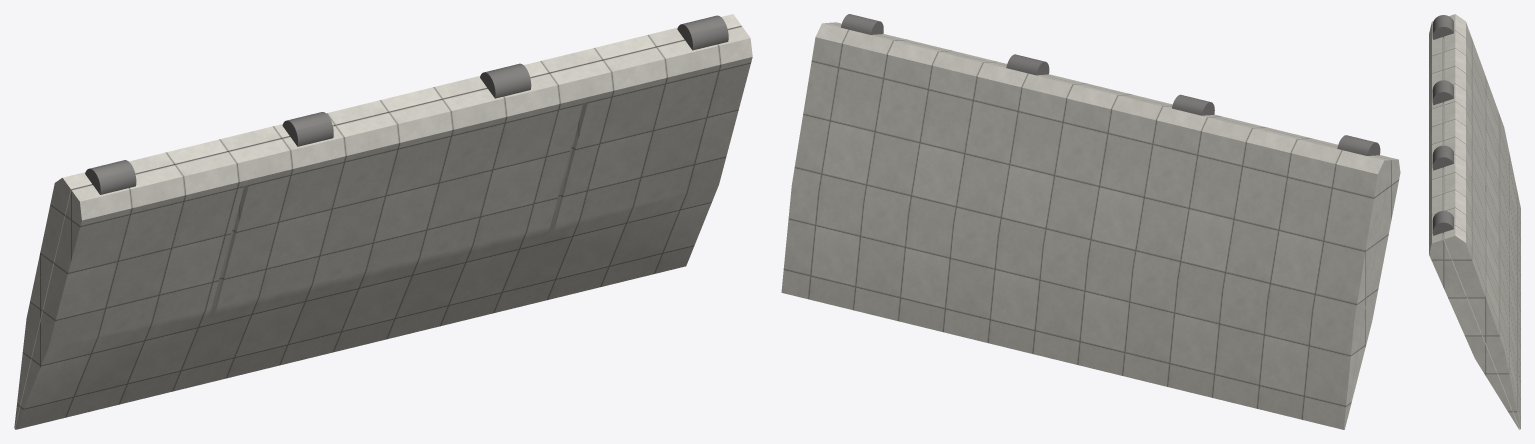
File: ax_aero_24_csr_rudder_brake_m_defl_pos.glb
The picture shows the model from 3 angles, left to right: view 1: azimuth 30°, elevation 25°; view 2: azimuth 150°, elevation 25°; view 3: azimuth 270°, elevation 25°; orthographic projection. The views are drawn at different scales.
Parts seen in each view (by area): view 1: surface_upper, surface_lower, hinge_fittings; view 2: surface_lower, surface_upper, hinge_fittings; view 3: surface_lower, surface_upper, hinge_fittings.
Boxes of the visible parts, x1,y1,x2,y2 form: surface_upper: (15, 26, 752, 429); surface_lower: (14, 14, 741, 428); hinge_fittings: (85, 15, 728, 194); surface_lower: (781, 23, 1391, 429); surface_upper: (829, 22, 1400, 429); hinge_fittings: (841, 14, 1380, 155); surface_lower: (1444, 14, 1520, 429); surface_upper: (1429, 21, 1519, 429); hinge_fittings: (1432, 15, 1453, 235).
Bounding box in the file's own units: 1.88 × 0.792 × 0.3285.
Materials: 2 (2 with a texture image).
